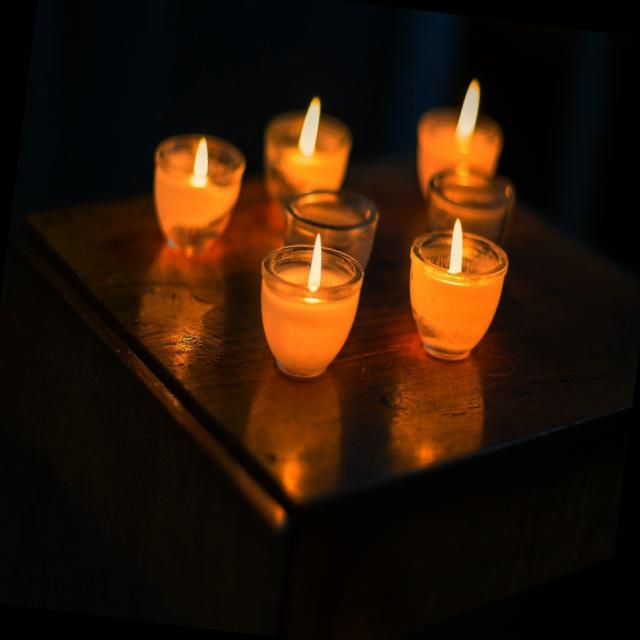Fire_Save: (248, 225, 368, 385), (397, 211, 513, 366), (408, 70, 510, 209), (142, 128, 248, 258), (257, 88, 357, 213)
